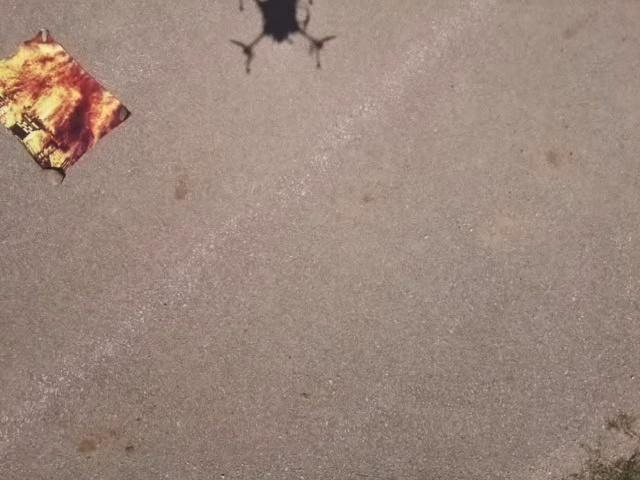fire-poster: (0, 26, 133, 186)
